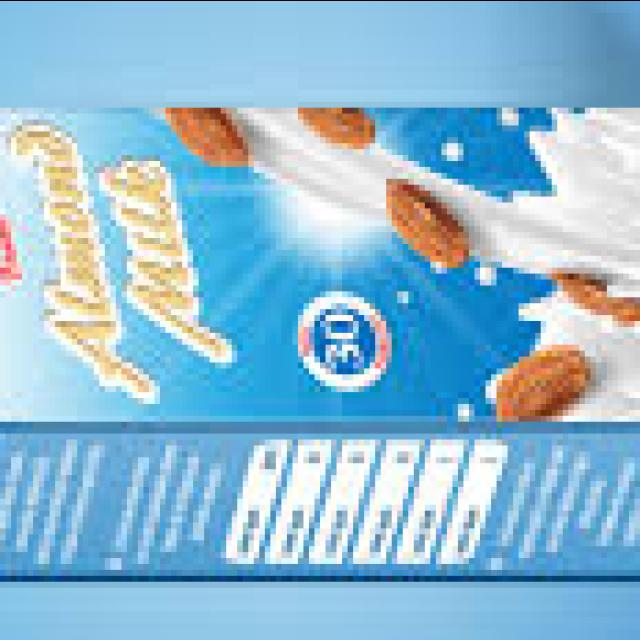milk: (0, 54, 640, 616)
